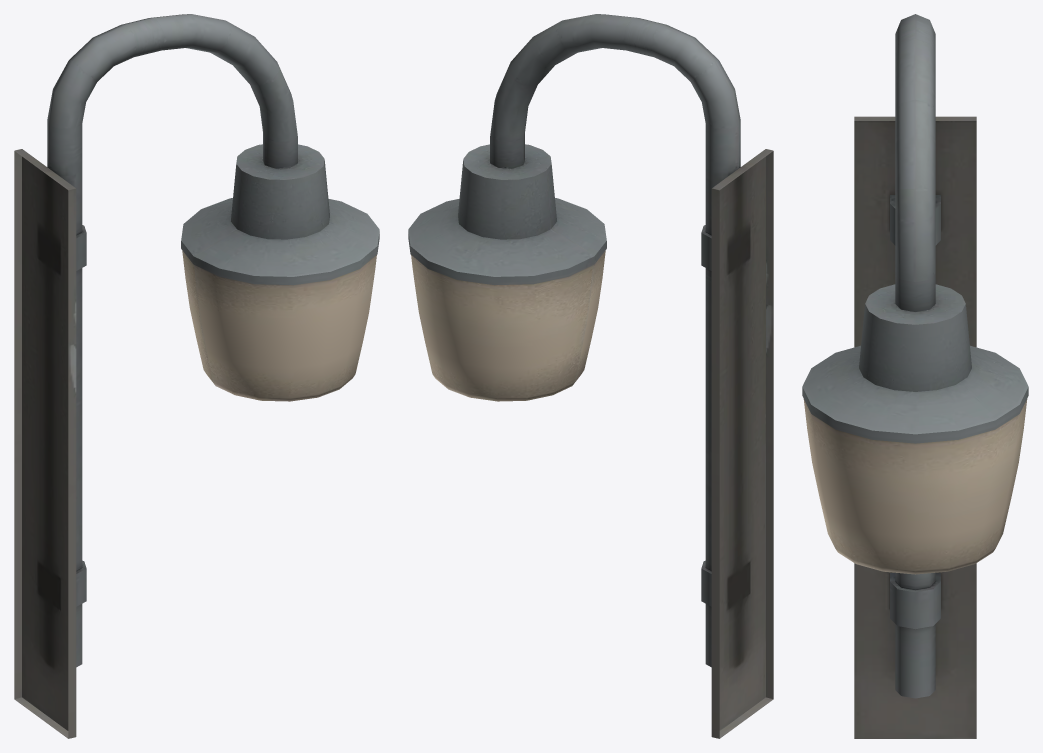
The picture shows the model from 3 angles, left to right: view 1: azimuth 30°, elevation 25°; view 2: azimuth 150°, elevation 25°; view 3: azimuth 270°, elevation 25°; orthographic projection. The views are drawn at different scales.
Parts seen in each view (by area): view 1: body0_model0_lod0_mesh0; view 2: body0_model0_lod0_mesh0; view 3: body0_model0_lod0_mesh0.
Part boxes in pixels (left/top/right/bottom): body0_model0_lod0_mesh0: left=14, top=14, right=379, bottom=738; body0_model0_lod0_mesh0: left=408, top=14, right=773, bottom=738; body0_model0_lod0_mesh0: left=802, top=14, right=1028, bottom=738.
Size of the model in its own units: 41.68 by 82.25 by 22.24.
1 material, 1 textured.
